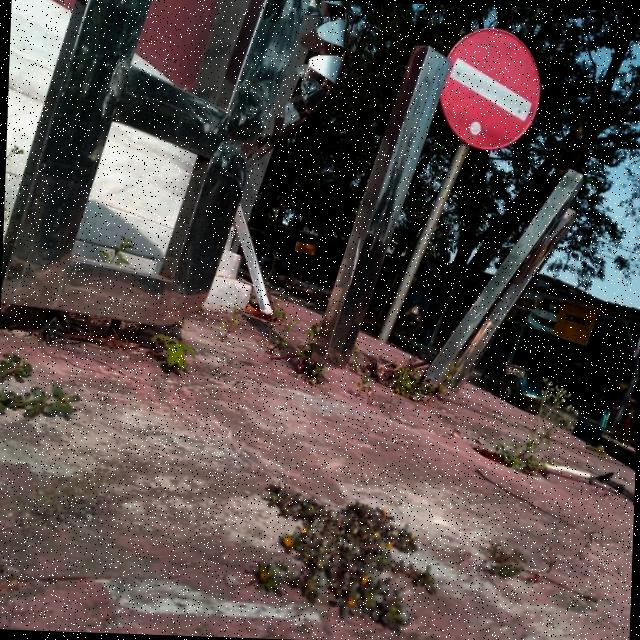Zakaz wjazdu: (444, 28, 543, 154)
